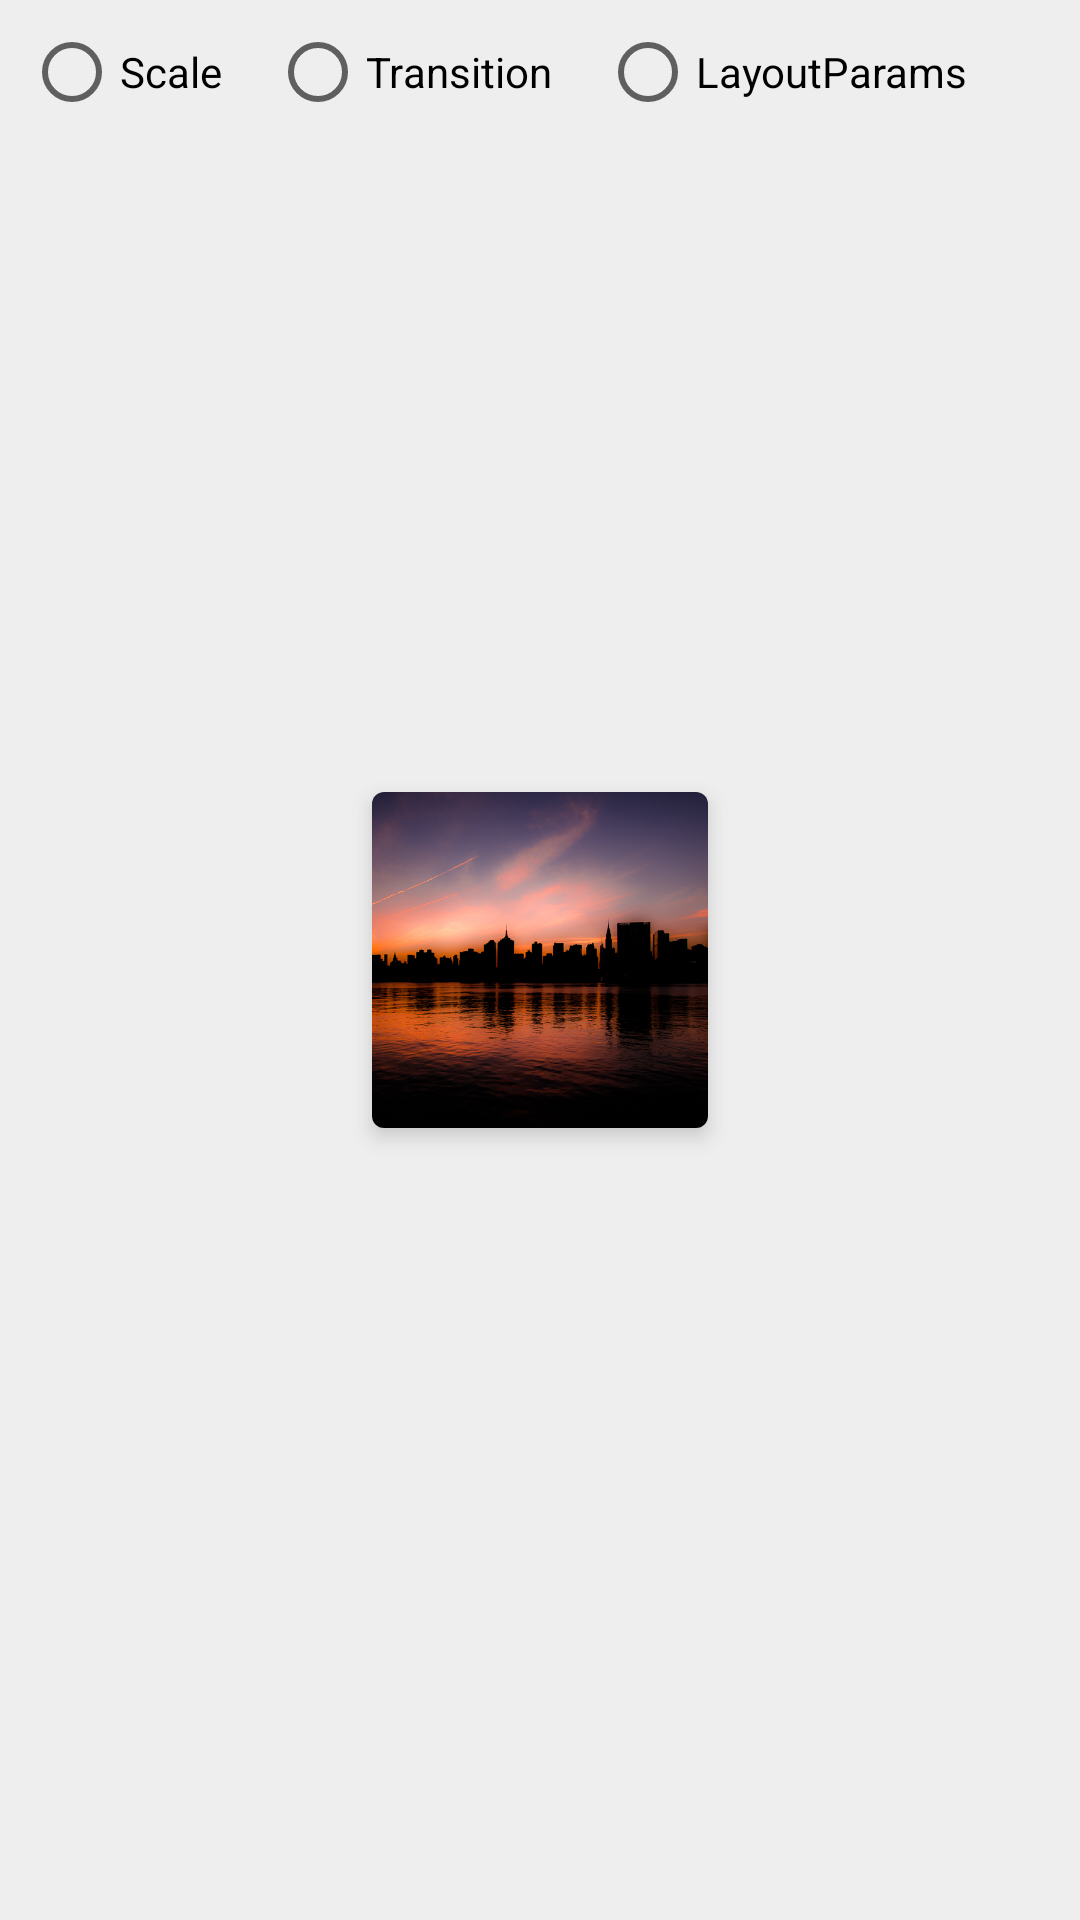

Where to tap for icons on this 1080 × 1920 app screen, as (x=x, y=y):
ny skyline: (x=540, y=960)
